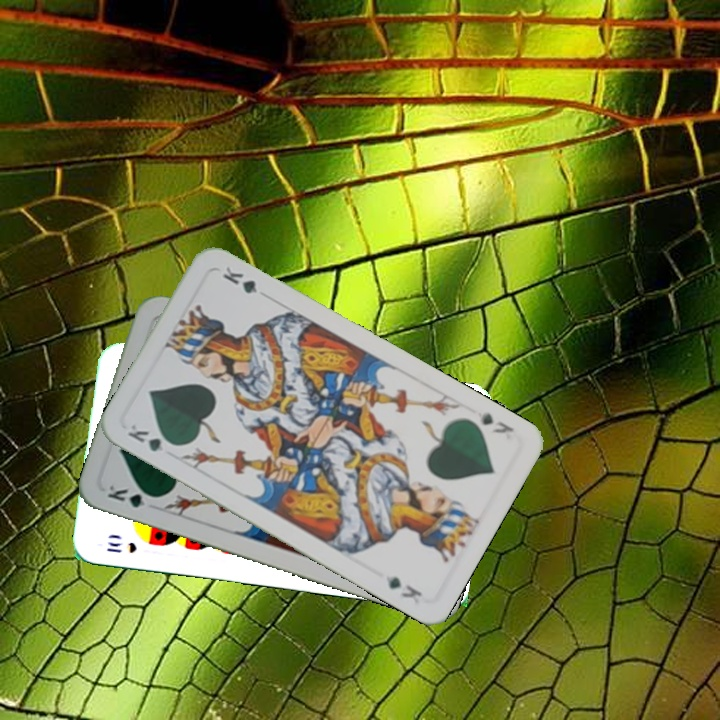GK: (123, 419, 180, 454), (103, 481, 161, 510), (477, 408, 516, 443)
S10: (103, 538, 140, 556)
